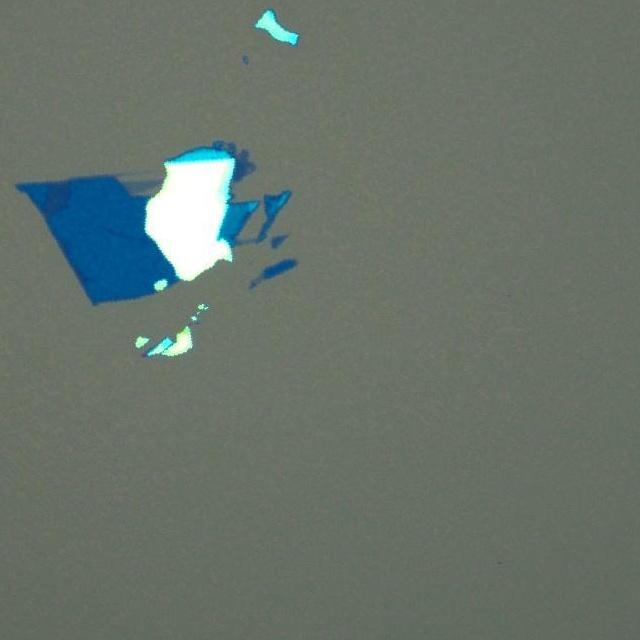monolayer-eWW4: (122, 178, 162, 194), (235, 237, 256, 246), (254, 275, 262, 285)
